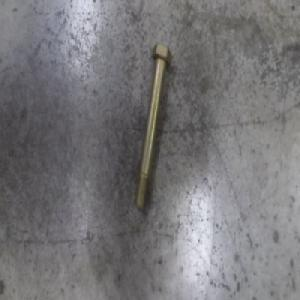Bolt: (133, 43, 171, 213)
